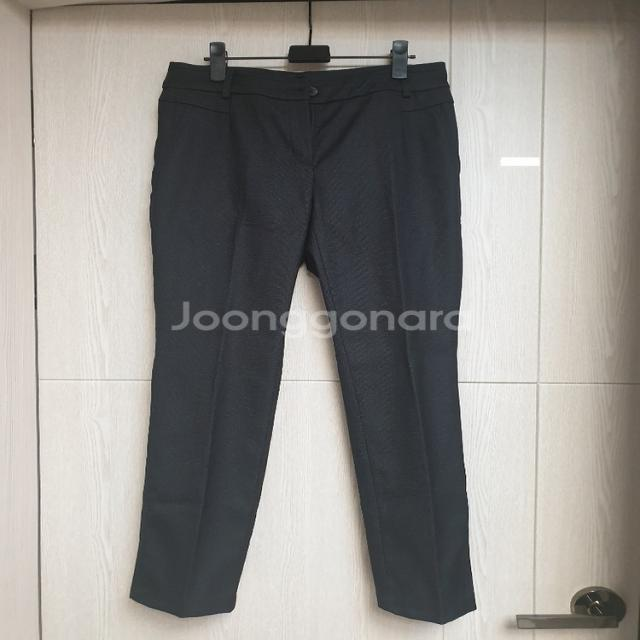long-pants: (128, 61, 479, 628)
